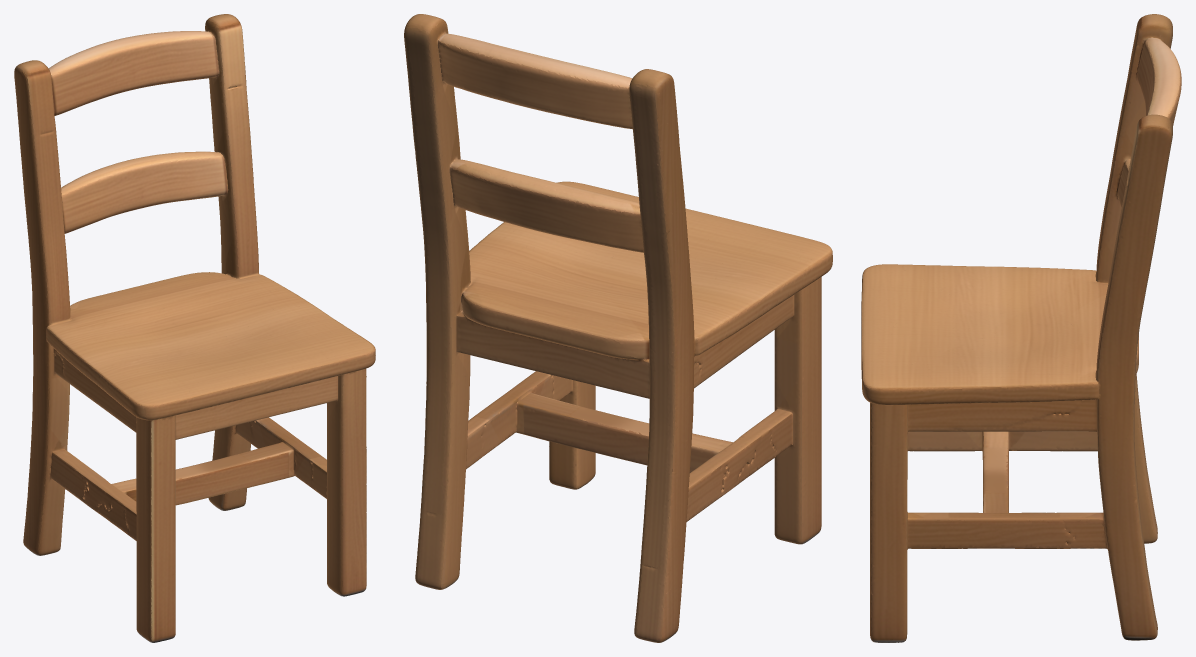
File: yizi.glb
3 renders of one model, left to right at view 1: azimuth 30°, elevation 25°; view 2: azimuth 150°, elevation 25°; view 3: azimuth 270°, elevation 25°, orthographic. The views are drawn at different scales.
Parts seen in each view (by area): view 1: geometry_0; view 2: geometry_0; view 3: geometry_0.
Part boxes in pixels (left/top/right/bottom): geometry_0: left=14, top=14, right=375, bottom=642; geometry_0: left=404, top=14, right=832, bottom=642; geometry_0: left=861, top=14, right=1181, bottom=642.
Size of the model in its own units: 0.4417 by 0.85 by 0.4745.
1 material, 1 textured.
